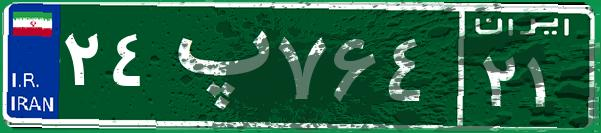1: (525, 38, 570, 115)
2: (57, 26, 110, 107), (475, 38, 525, 113)
4: (385, 28, 445, 110), (110, 28, 158, 105)
6: (330, 28, 385, 110)
7: (273, 28, 330, 110)
پ: (158, 15, 273, 115)
